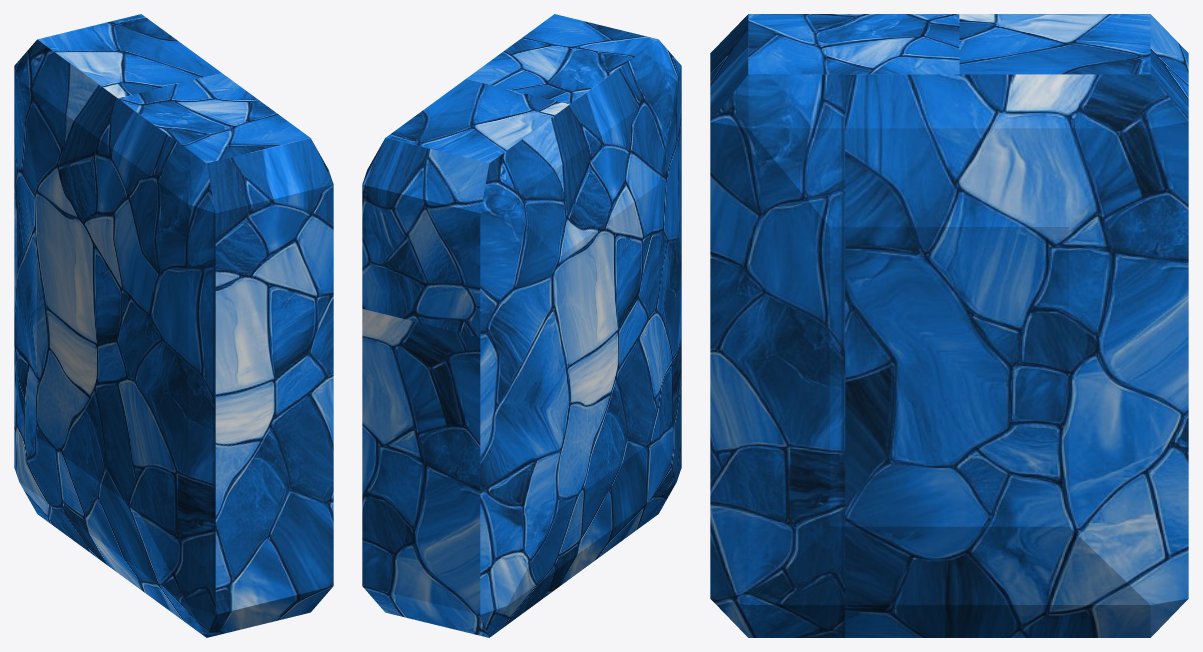
The model's file is gemstone6BlueCompressed.glb.
3 renders of one model, left to right at view 1: azimuth 30°, elevation 25°; view 2: azimuth 150°, elevation 25°; view 3: azimuth 270°, elevation 25°, orthographic. The views are drawn at different scales.
Parts seen in each view (by area): view 1: gemstone5; view 2: gemstone5; view 3: gemstone5.
Part boxes in pixels (x1,y1,x2,y2): gemstone5: (14,14,333,637); gemstone5: (362,14,681,637); gemstone5: (710,14,1188,637).
Size of the model in its own units: 0.5 by 1.3 by 1.
1 material, 1 textured.
